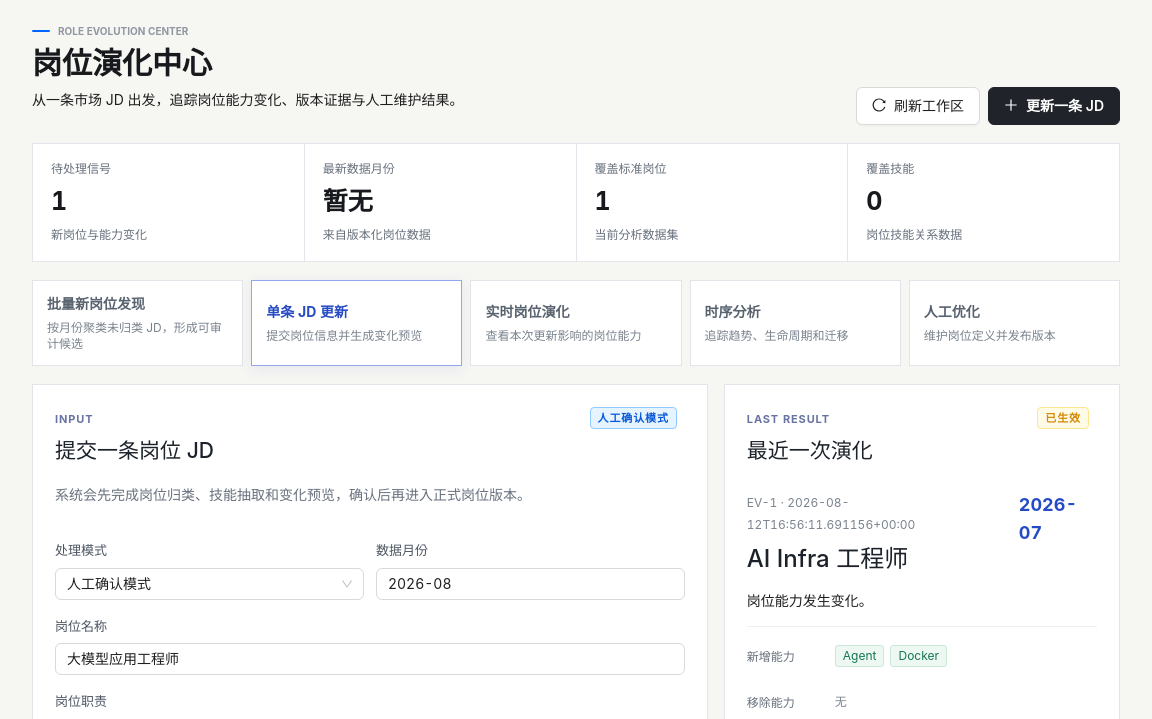
RoleEvolutionCenterPage › shows confirmed profile changes instead of a pending routing candidate
This screenshot has width=1152, height=719.
Check: the heading "岗位演化中心" is shown, box top-left (32, 45), bottom-right (212, 81)
What coordinates should you click on to do the following:
click the button "实时岗位演化 查看本次更新影响的岗位能力"
I would click on:
 (576, 323)
Its box is top-left (470, 280), bottom-right (682, 366).
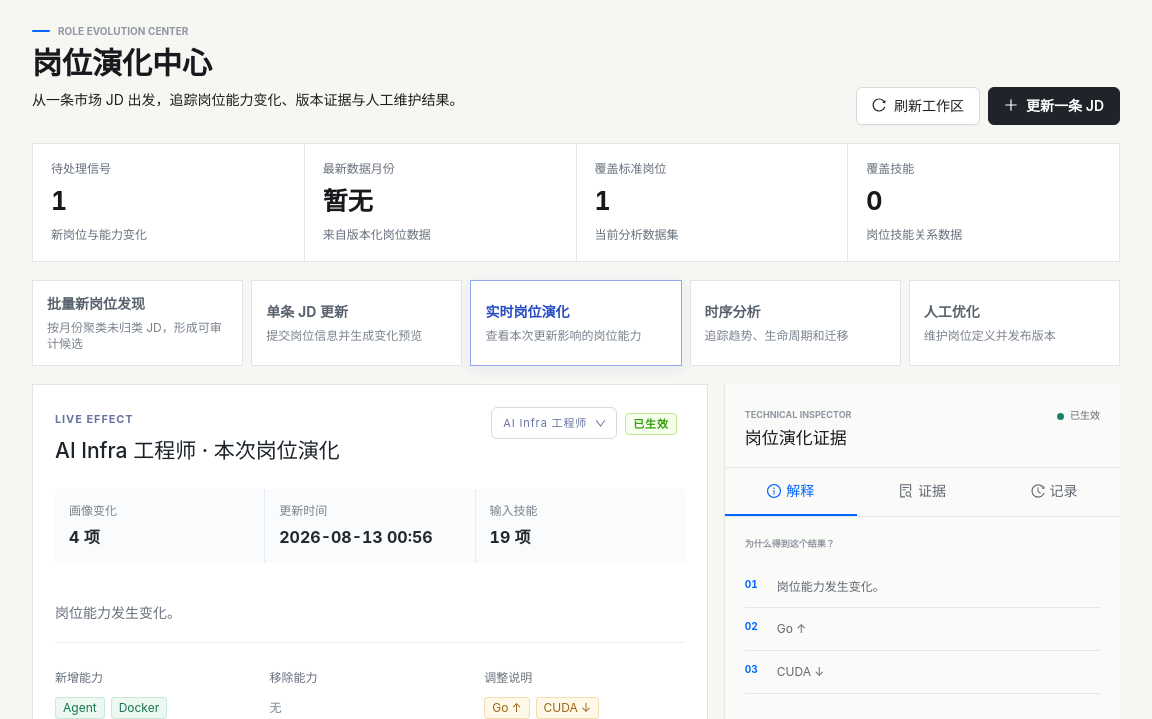
Check: the text "已生效" is shown, box top-left (625, 413), bottom-right (677, 435)
Check: the heading "AI Infra 工程师 · 本次岗位演化" is shown, box top-left (55, 434), bottom-right (340, 467)
Check: the text "2026-08-13 00:56" is shown, box top-left (279, 527), bottom-right (433, 547)
What coordinates should you click on to do the following:
click the tab "记录"
I would click on:
 (1054, 492)
Its box is top-left (988, 468), bottom-right (1120, 516).
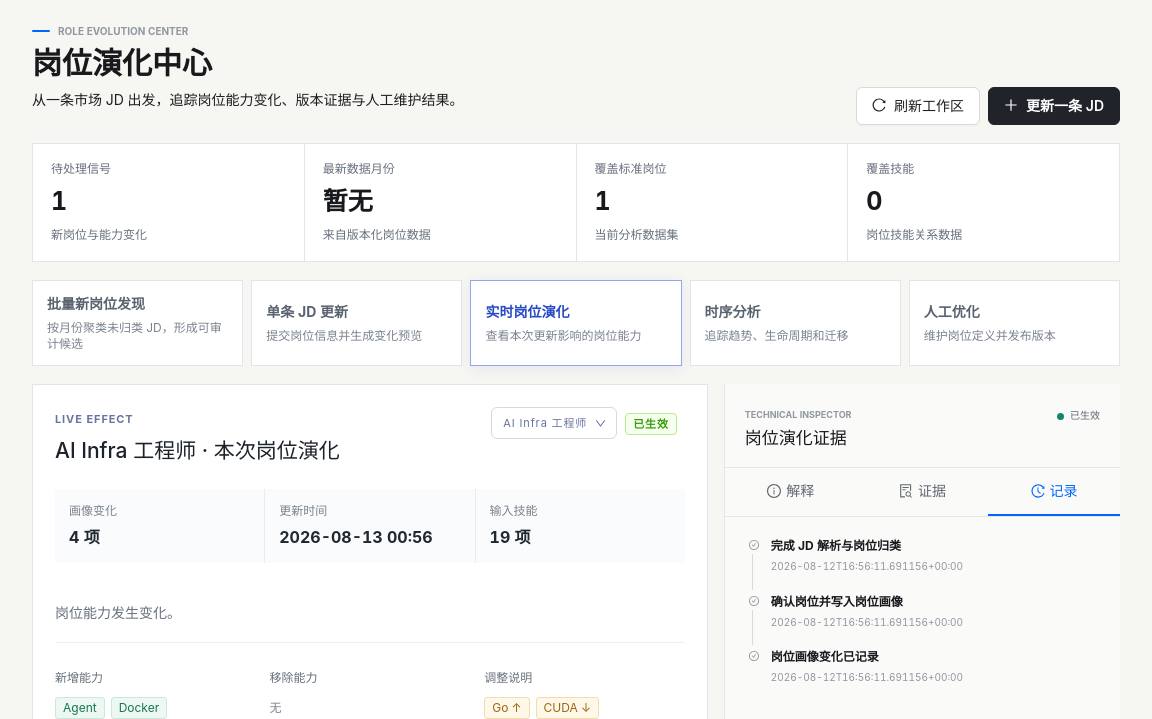
Check: the text "岗位画像变化已记录" is shown, box top-left (771, 650), bottom-right (879, 664)
